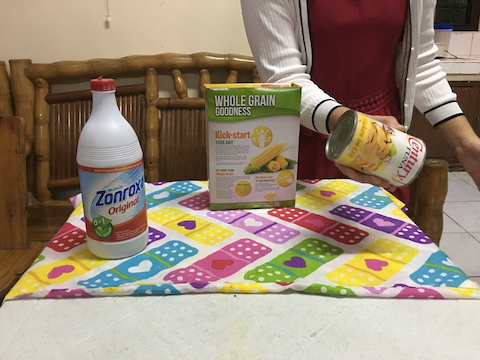bottle: (73, 72, 155, 262)
box: (201, 79, 308, 214)
can: (325, 106, 432, 188)
grab: (337, 165, 400, 194)
